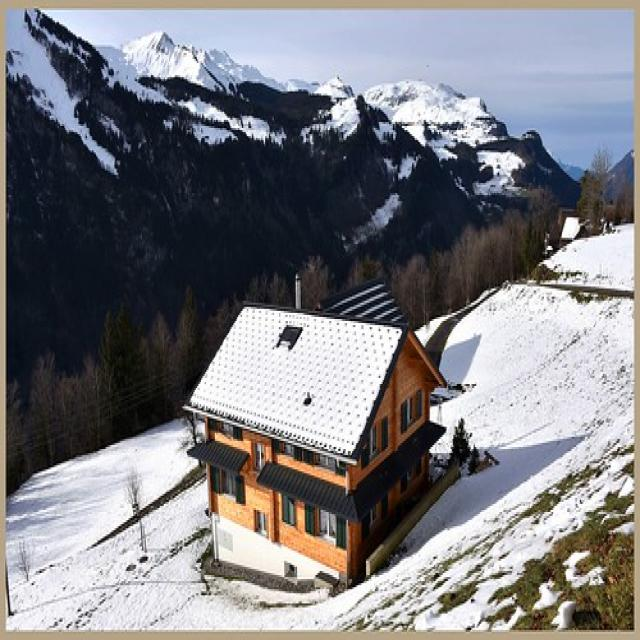building: (184, 299, 447, 597)
